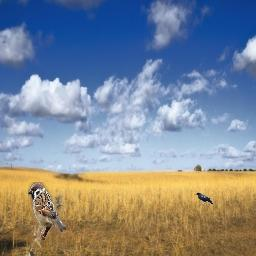Crow: (195, 192, 214, 204)
Sparrow: (28, 182, 66, 240)
